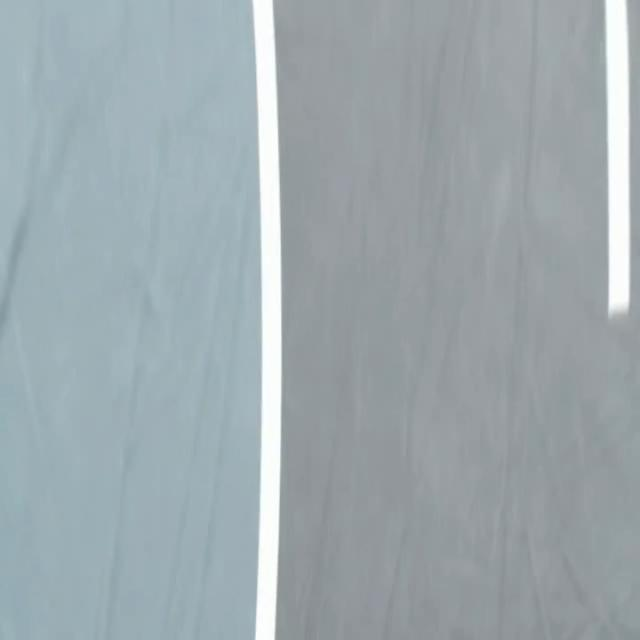center: (605, 0, 629, 317)
left: (252, 0, 281, 639)
